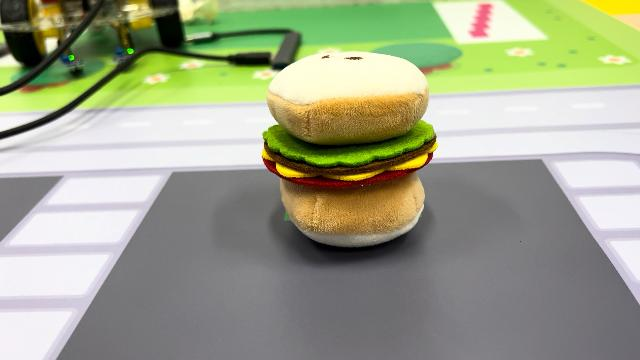sandwich: (259, 47, 439, 248)
